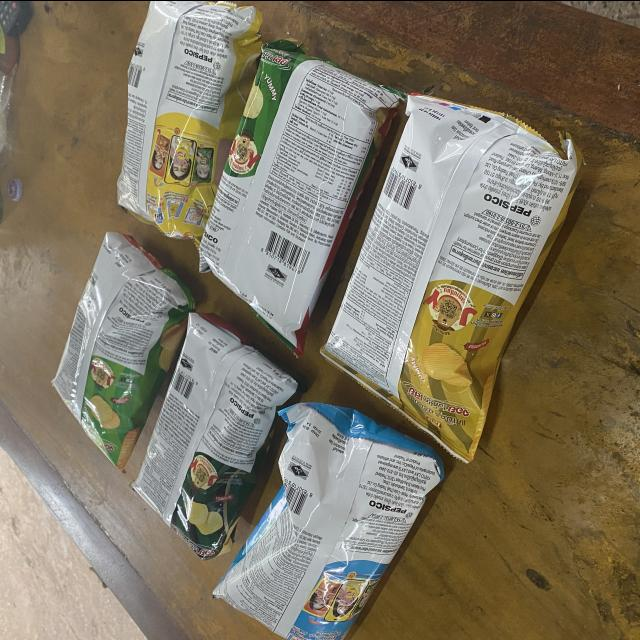plastik: (322, 94, 582, 461), (199, 40, 405, 355), (213, 402, 444, 640), (133, 312, 304, 558), (117, 0, 262, 241), (52, 232, 194, 470)
